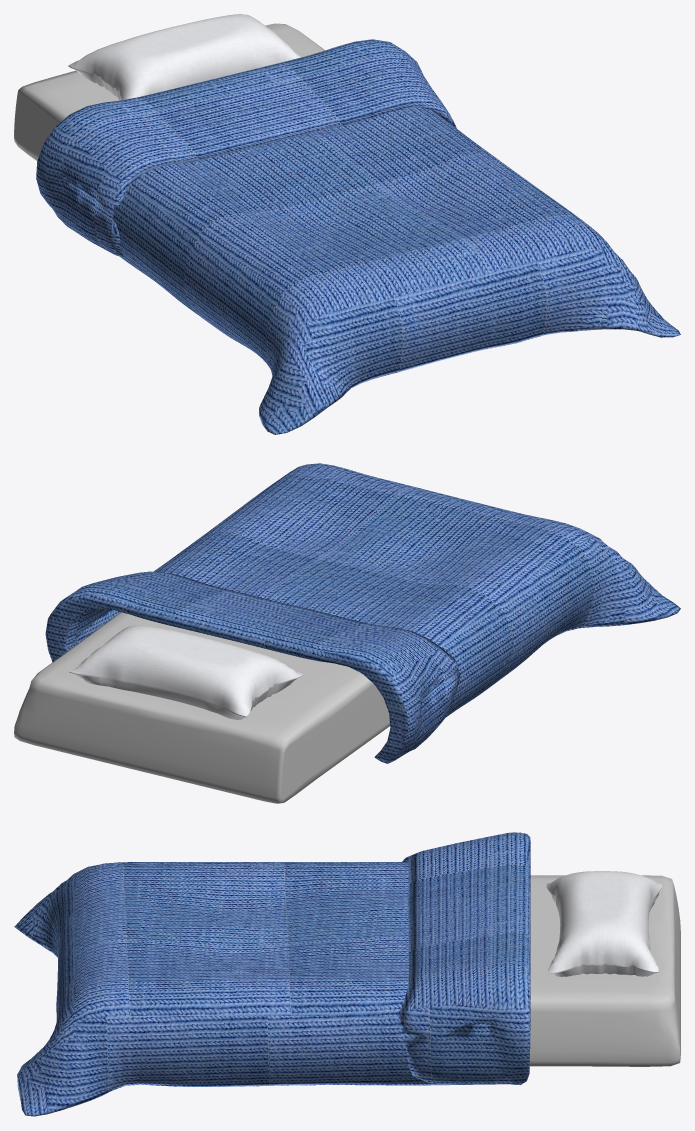
File: Cama.obj
3 renders of one model, top to bottom at view 1: azimuth 30°, elevation 25°; view 2: azimuth 150°, elevation 25°; view 3: azimuth 270°, elevation 25°, orthographic. The views are drawn at different scales.
Parts seen in each view (by area): view 1: bed:Mesh1; view 2: bed:Mesh1; view 3: bed:Mesh1.
Part boxes in pixels (<box>): bed:Mesh1: <box>14,14,680,434</box>; bed:Mesh1: <box>14,463,680,803</box>; bed:Mesh1: <box>14,832,680,1116</box>.
Bounding box in the file's own units: 2.48 × 0.7481 × 3.59.
